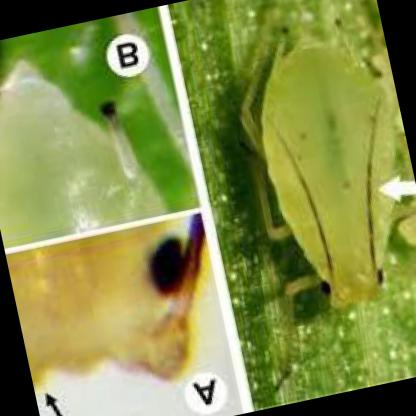schizaphis graminum: (240, 14, 400, 339)
